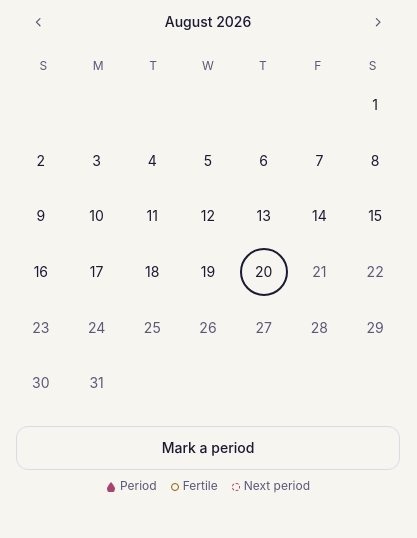
Test: CalendarScreen › range picking never selects future days, and can be cancelled
Click the button "Mark a period".
click(208, 448)  # box [16, 426, 400, 470]
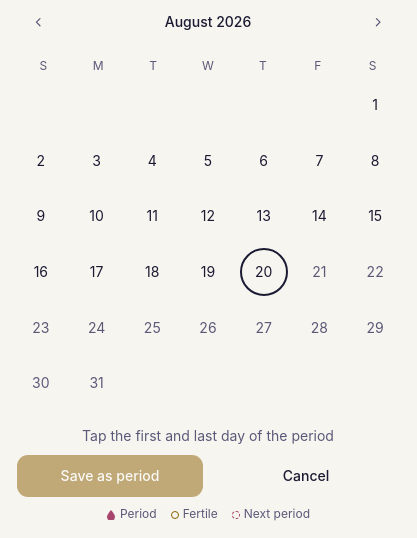
Expected: the button "25" is disabled, [132, 308, 172, 348]
Click the button "Cancel".
click(306, 476)  # box [212, 454, 400, 498]
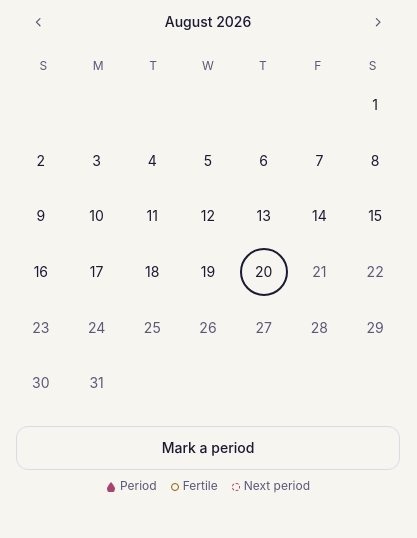
Now the button "Mark a period" is shown, box [16, 426, 400, 470]
